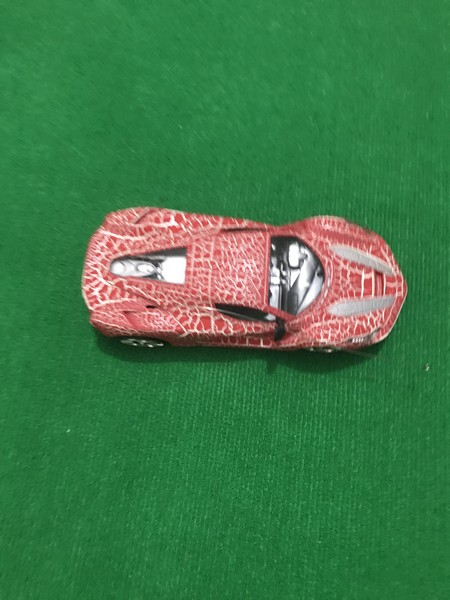RC: (80, 204, 409, 358)
